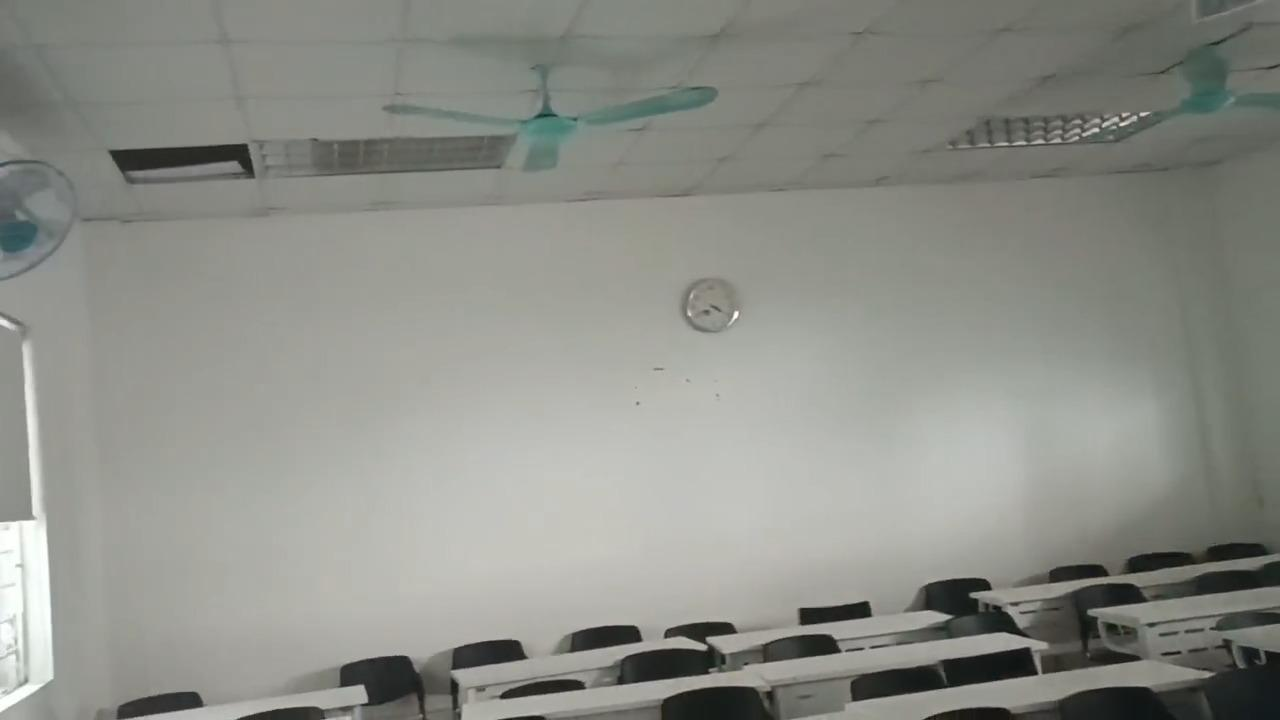chair: (341, 653, 422, 719), (1203, 663, 1279, 719), (618, 645, 711, 686), (1060, 686, 1174, 719), (941, 650, 1040, 687), (853, 663, 946, 701), (660, 690, 778, 719), (943, 613, 1035, 642), (926, 575, 998, 611), (1077, 582, 1149, 615), (765, 635, 835, 666), (1193, 570, 1265, 597), (115, 693, 199, 715), (454, 639, 519, 666), (568, 626, 638, 650), (1214, 612, 1279, 637), (797, 604, 869, 626), (1130, 551, 1194, 575), (666, 621, 732, 641), (497, 681, 582, 695), (1045, 563, 1104, 583), (234, 706, 324, 719), (1201, 545, 1266, 560), (923, 704, 1004, 716), (1266, 565, 1279, 586)
clock: (662, 262, 782, 348)
fan: (375, 76, 722, 176), (0, 160, 75, 284)
table: (854, 658, 1212, 719), (748, 632, 1046, 686), (463, 668, 763, 718), (1097, 587, 1279, 666), (448, 637, 702, 688), (705, 609, 955, 654), (118, 683, 370, 716), (970, 569, 1212, 603), (1187, 553, 1279, 574)
